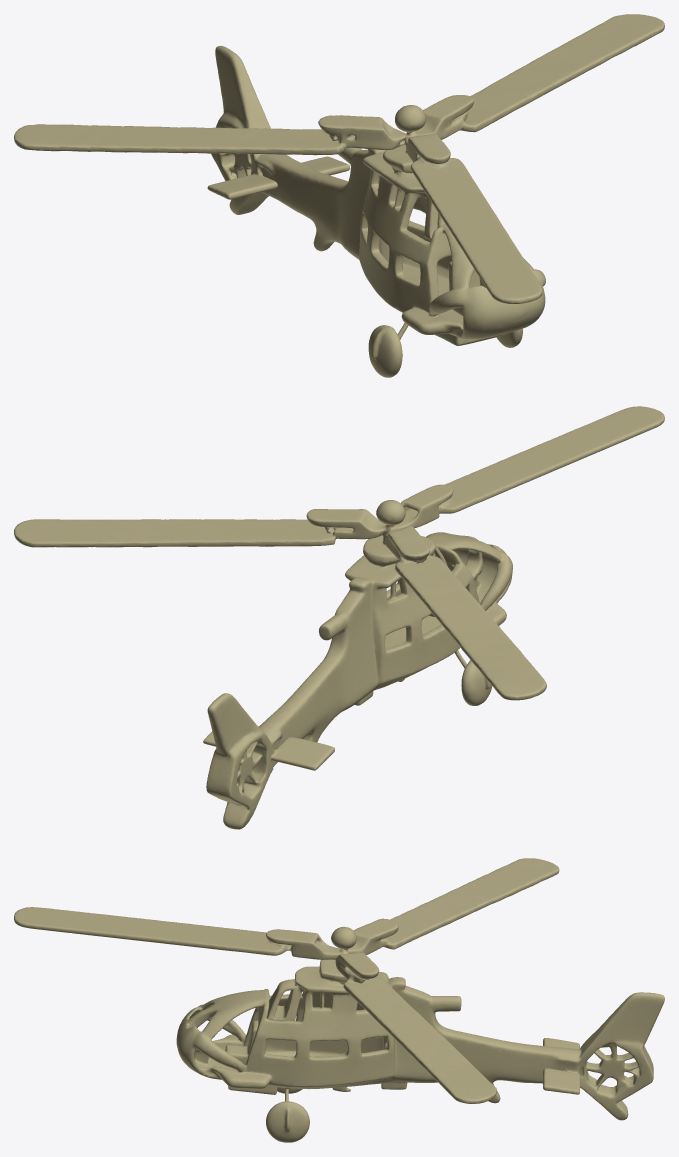
The model's file is helicopter.glb.
3 views of the same model, one above another, from view 1: azimuth 30°, elevation 25°; view 2: azimuth 150°, elevation 25°; view 3: azimuth 270°, elevation 25° (orthographic). The views are drawn at different scales.
Visible parts, largest first — view 1: geometry_0; view 2: geometry_0; view 3: geometry_0.
Part boxes in pixels (x1=…): geometry_0: x1=14, y1=14, x2=664, y2=377; geometry_0: x1=14, y1=406, x2=664, y2=829; geometry_0: x1=14, y1=858, x2=664, y2=1142.
Bounding box in the file's own units: 0.891 × 0.3238 × 1.
1 material, 1 textured.
